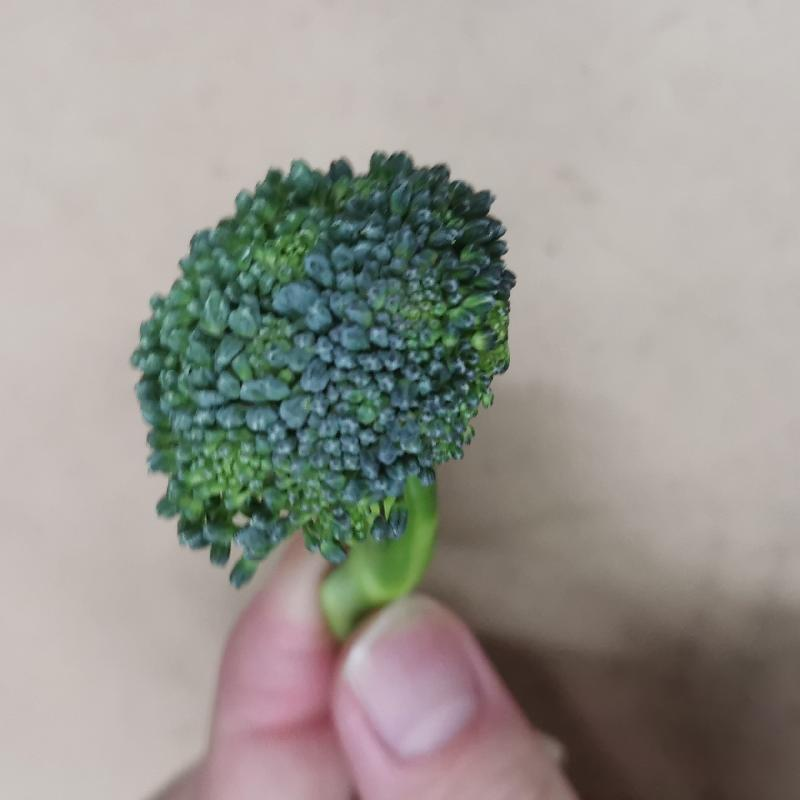broccoli: (124, 149, 522, 657)
